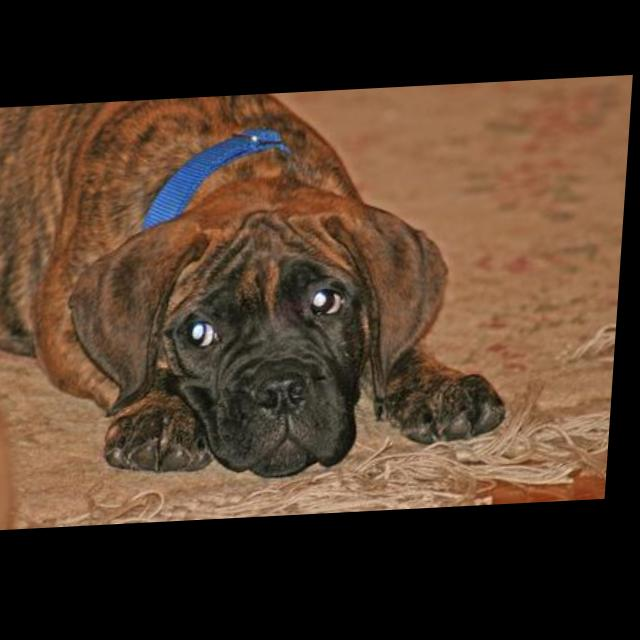bullmastiff: (1, 87, 531, 495)
